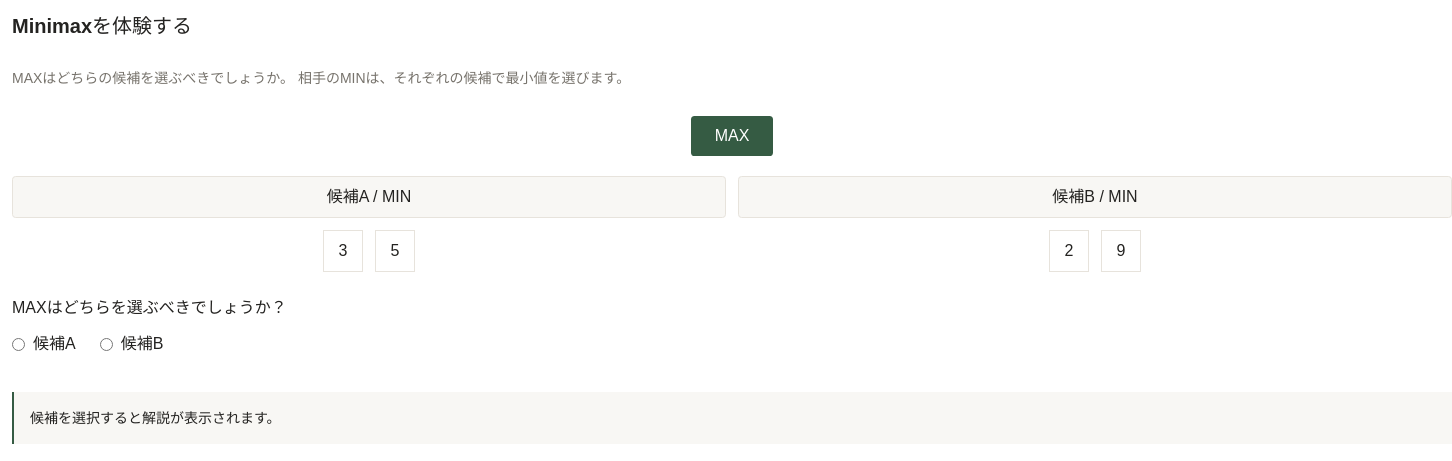
it: MinimaxDemo › 候補Bを選択すると正解の候補Aを説明する
Click the radio button labelled "候補B": (106, 344) [100,338,113,350]
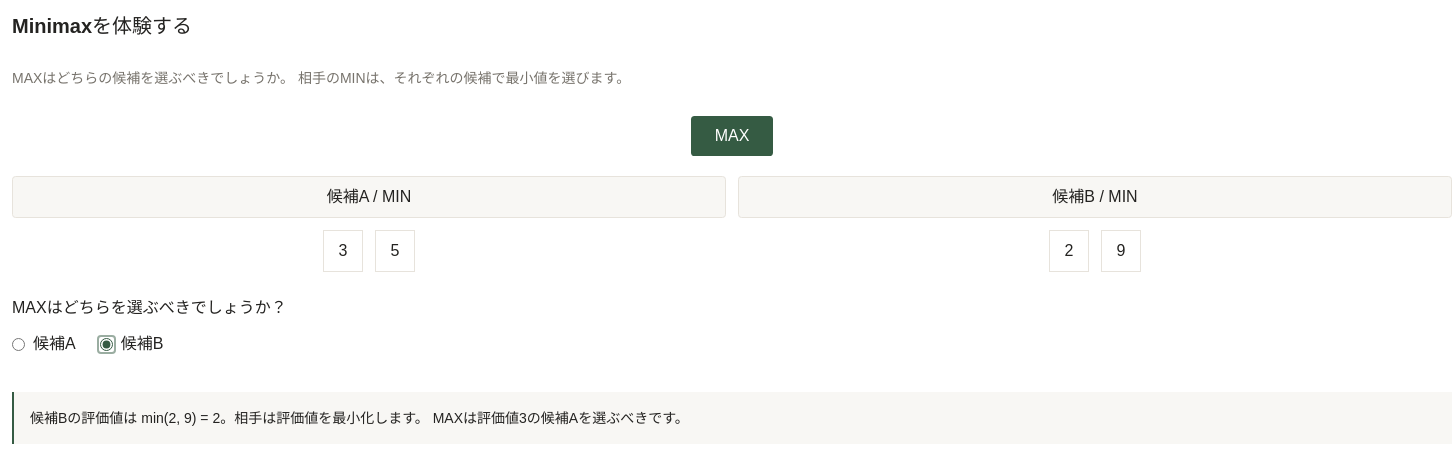
Check: the message shows "min(2, 9) = 2", box [30,410,689,426]
Check: the message shows "候補Aを選ぶべき", box [30,410,689,426]
